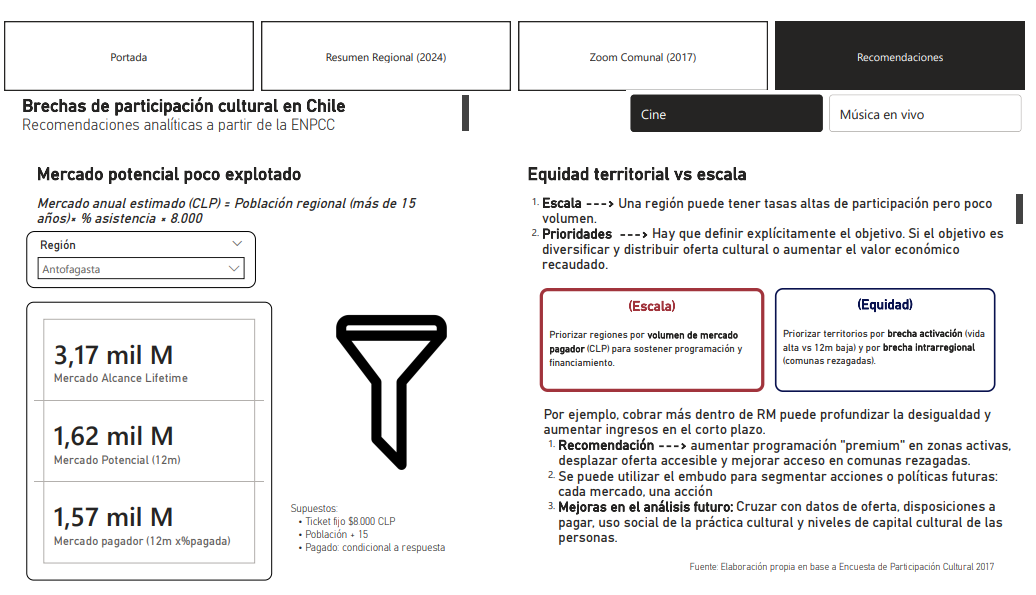

This screenshot's page, from the dashboard's own definition file:
{"tool":"powerbi","page":{"name":"Recomendaciones","canvas":[1280,720],"ordinal":3},"visuals":[{"type":"pageNavigator","box":[0,32.4,1259.7,85.1],"z":0},{"type":"textbox","box":[35,240,500,50],"z":1000},{"type":"textbox","box":[16.7,118.3,561.7,55],"z":2000},{"type":"textbox","box":[35,201.7,453.3,38.3],"z":3000},{"type":"textbox","box":[640,201.7,483.3,38.3],"z":4000},{"type":"cardVisual","fields":{"Data":["Tabla_Medidas.MercadoPotencial_Vida_CLP","Tabla_Medidas.MercadoPotencial_12m_CLP","Tabla_Medidas.MercadoPagador_12m_CLP"]},"box":[26.7,376.7,303.3,343.3],"z":5000},{"type":"slicer","fields":{"Values":["DimPoblacion.Región"]},"box":[26.7,290,283.3,70],"z":6000},{"type":"advancedSlicerVisual","fields":{"Values":["DimDisciplina.disciplina_label"]},"box":[766.7,116.7,493.3,56.7],"z":7000},{"type":"textbox","box":[640,240,620,106.7],"z":8000},{"type":"textbox","box":[840,688.3,396.7,31.7],"z":9000},{"type":"image","box":[348.3,380,258.3,216.7],"z":10000},{"type":"textbox","box":[348.3,616.7,291.7,86.7],"z":11000},{"type":"textbox","box":[660,360,276.7,128.3],"z":12000},{"type":"textbox","box":[950,360,271.7,128.3],"z":13000},{"type":"textbox","box":[660,500,600,188.3],"z":13001}]}

Visuals, with their boxes in screenshot pixels (x1, y1, x2, y2), scaled from the page's 1280x720 canvas onto the 1036x595 screenshot:
pageNavigator: (left=0, top=27, right=1020, bottom=97)
textbox: (left=28, top=198, right=433, bottom=240)
textbox: (left=14, top=98, right=468, bottom=143)
textbox: (left=28, top=167, right=395, bottom=198)
textbox: (left=518, top=167, right=909, bottom=198)
cardVisual - Tabla_Medidas.MercadoPotencial_Vida_CLP x Tabla_Medidas.MercadoPotencial_12m_CLP: (left=22, top=311, right=267, bottom=594)
slicer - DimPoblacion.Región: (left=22, top=240, right=251, bottom=298)
advancedSlicerVisual - DimDisciplina.disciplina_label: (left=621, top=96, right=1020, bottom=143)
textbox: (left=518, top=198, right=1020, bottom=287)
textbox: (left=680, top=569, right=1001, bottom=594)
image: (left=282, top=314, right=491, bottom=493)
textbox: (left=282, top=510, right=518, bottom=581)
textbox: (left=534, top=298, right=758, bottom=404)
textbox: (left=769, top=298, right=989, bottom=404)
textbox: (left=534, top=413, right=1020, bottom=569)
